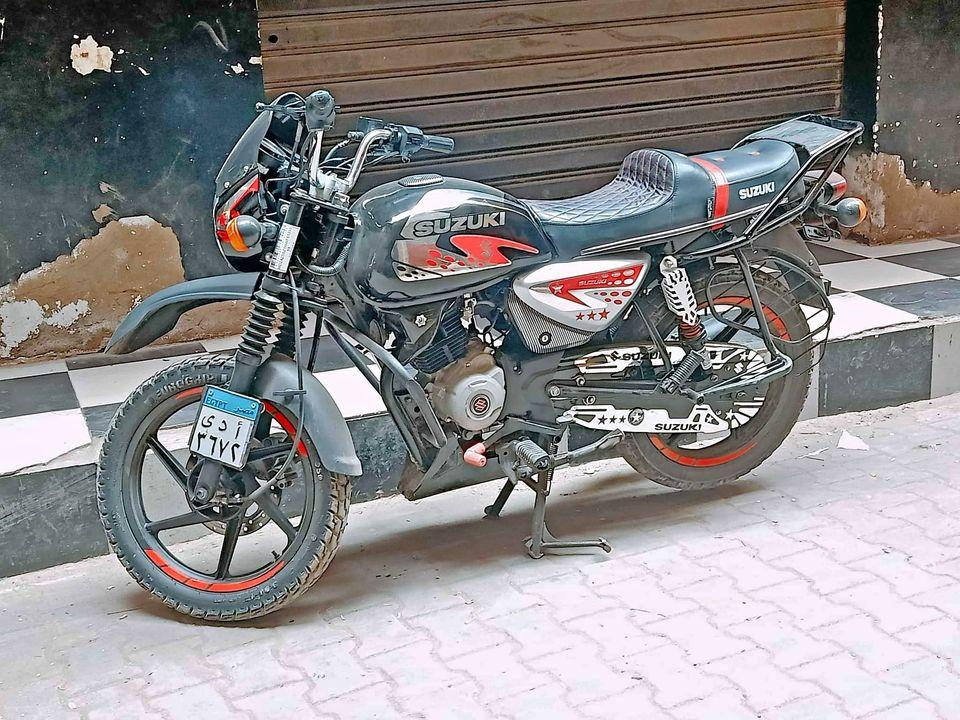License Plate: (187, 386, 261, 469)
